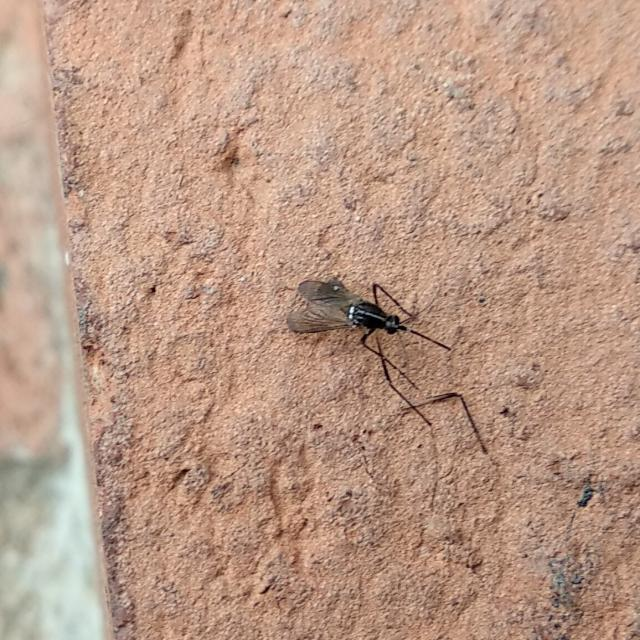albopictus: (282, 270, 485, 451)
